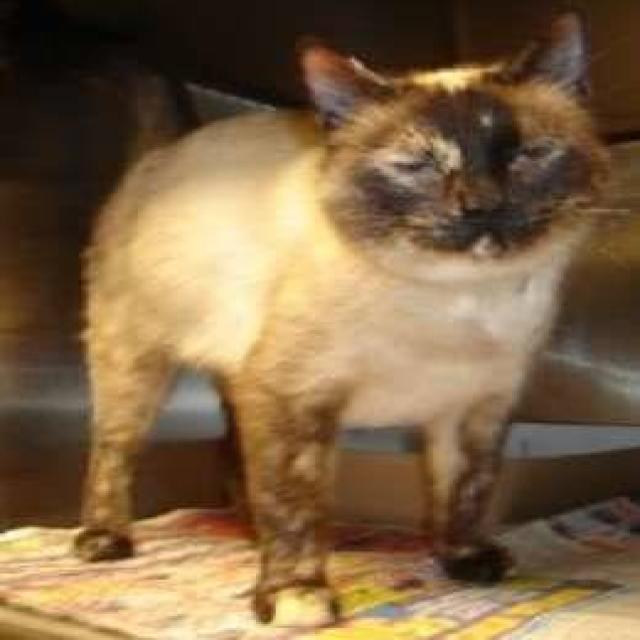cat: (69, 10, 610, 624)
